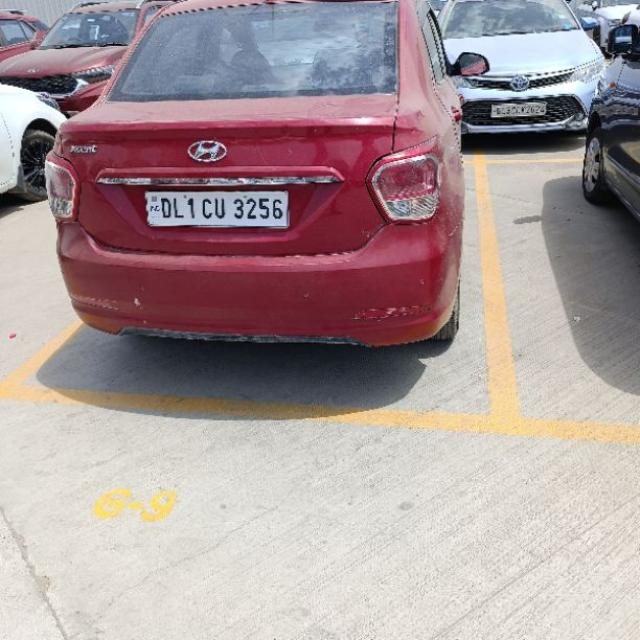license_plate: (143, 188, 290, 228), (488, 100, 546, 118)
